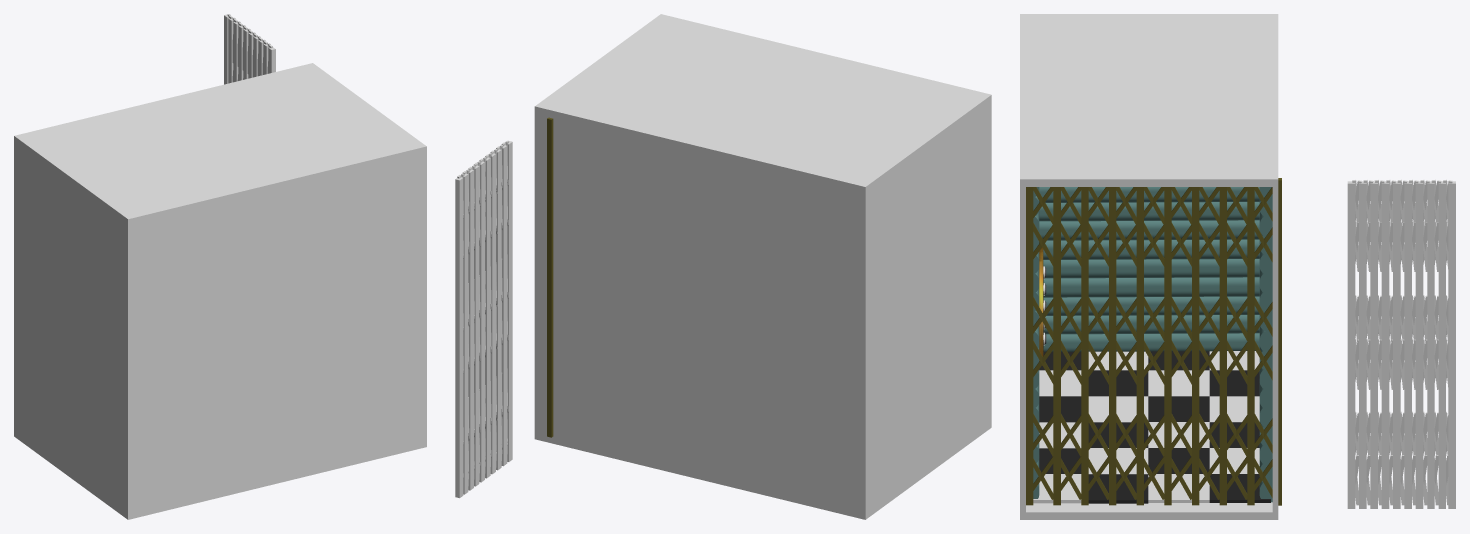
The model's file is NewElevator4.fbx.
3 renders of one model, left to right at view 1: azimuth 30°, elevation 25°; view 2: azimuth 150°, elevation 25°; view 3: azimuth 270°, elevation 25°, orthographic. The views are drawn at different scales.
Parts seen in each view (by area): view 1: Cube, Cube.062; view 2: Cube, Cube.062, Cube.061; view 3: Cube, Cube.061, Cube.062, Cube.056, Cube.057, Cube.055, Cube.052, Cube.030, Cube.029, Cube.033, Cube.027, Cube.028 (+8 smaller).
Boxes of the visible parts, x1,y1,x2,y2 form: Cube: [14, 63, 426, 519]; Cube.062: [224, 14, 275, 84]; Cube: [534, 14, 991, 519]; Cube.062: [455, 140, 512, 498]; Cube.061: [547, 117, 553, 437]; Cube: [1020, 14, 1278, 519]; Cube.061: [1026, 178, 1281, 505]; Cube.062: [1347, 179, 1455, 508]; Cube.056: [1039, 396, 1270, 502]; Cube.057: [1033, 396, 1259, 503]; Cube.055: [1039, 351, 1259, 448]; Cube.052: [1039, 352, 1259, 447]; Cube.030: [1043, 277, 1259, 297]; Cube.029: [1043, 259, 1259, 278]; Cube.033: [1043, 333, 1259, 351]; Cube.027: [1039, 220, 1259, 240]; Cube.028: [1039, 202, 1259, 221].
Bounding box in the file's own units: 1875 × 1803 × 2091.
